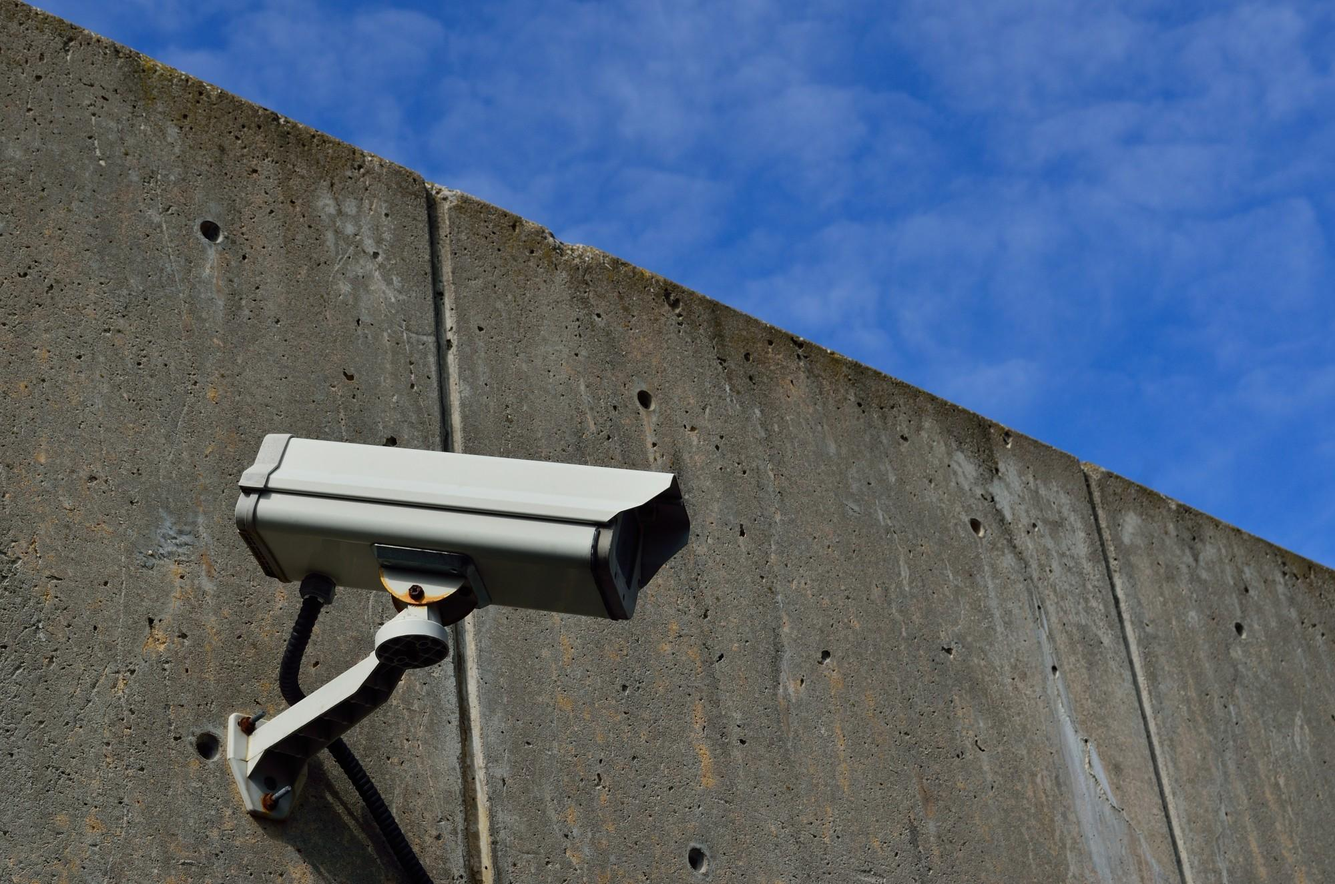Security camera: (217, 430, 690, 821)
